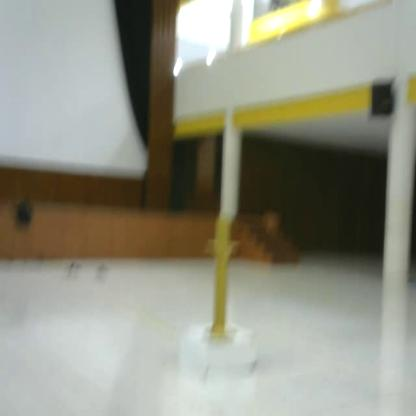pole: (207, 214, 241, 348)
